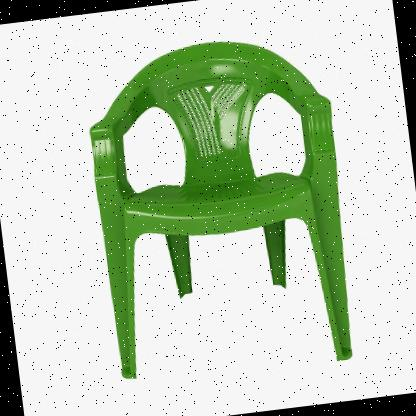chair: (74, 24, 371, 390)
